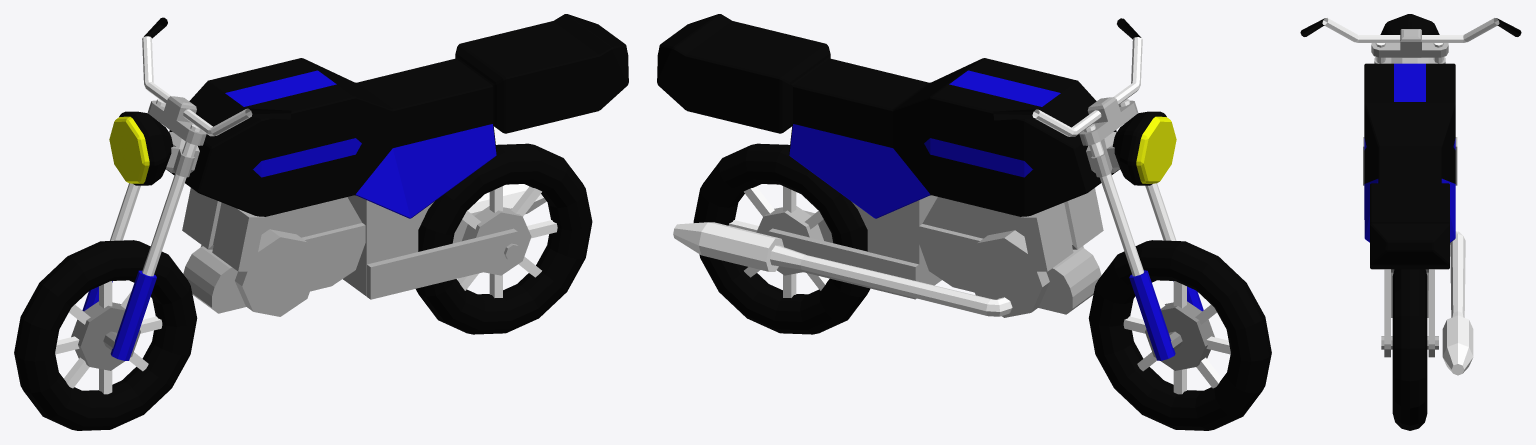
Rendered from Motor_4.fbx.
3 renders of one model, left to right at view 1: azimuth 30°, elevation 25°; view 2: azimuth 150°, elevation 25°; view 3: azimuth 270°, elevation 25°, orthographic. The views are drawn at different scales.
Parts seen in each view (by area): view 1: Cube.006; view 2: Cube.006; view 3: Cube.006.
Boxes of the visible parts, box(x1,y1,x2,y2) form: Cube.006: box(14, 14, 628, 430); Cube.006: box(657, 14, 1271, 430); Cube.006: box(1300, 14, 1521, 430).
Bounding box in the file's own units: 235 × 126 × 89.5.
